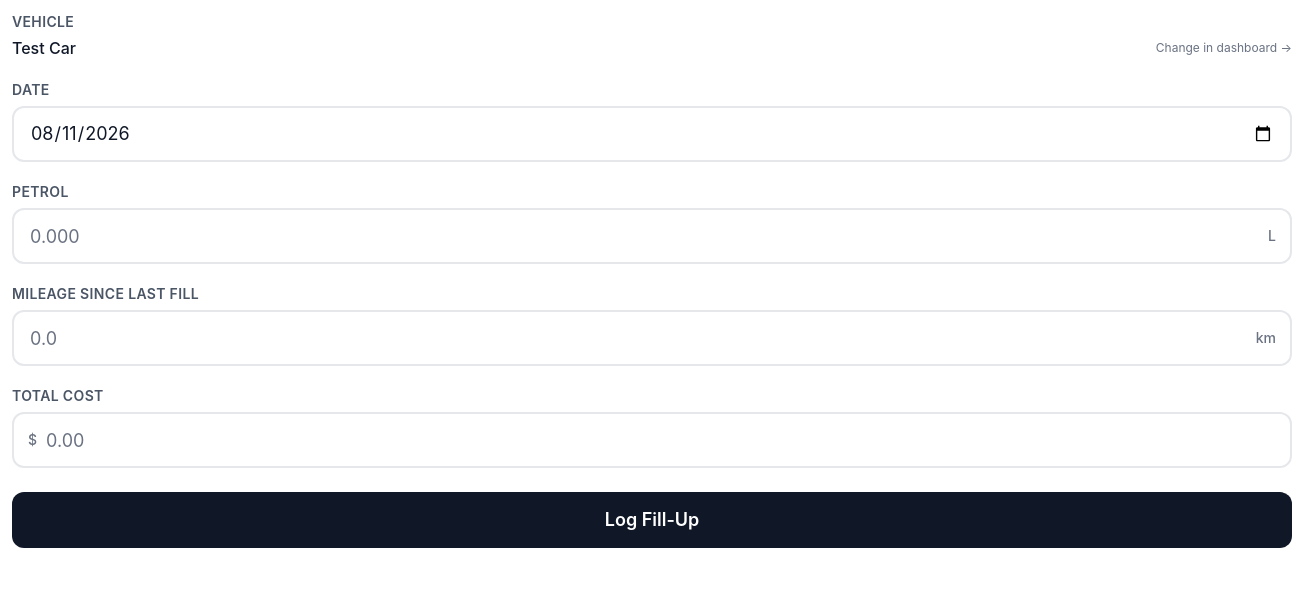
Test: LogForm › renders server-side validation error
Type "40" into the number field labelled "Petrol" at (652,236), box [12,208,1292,264]
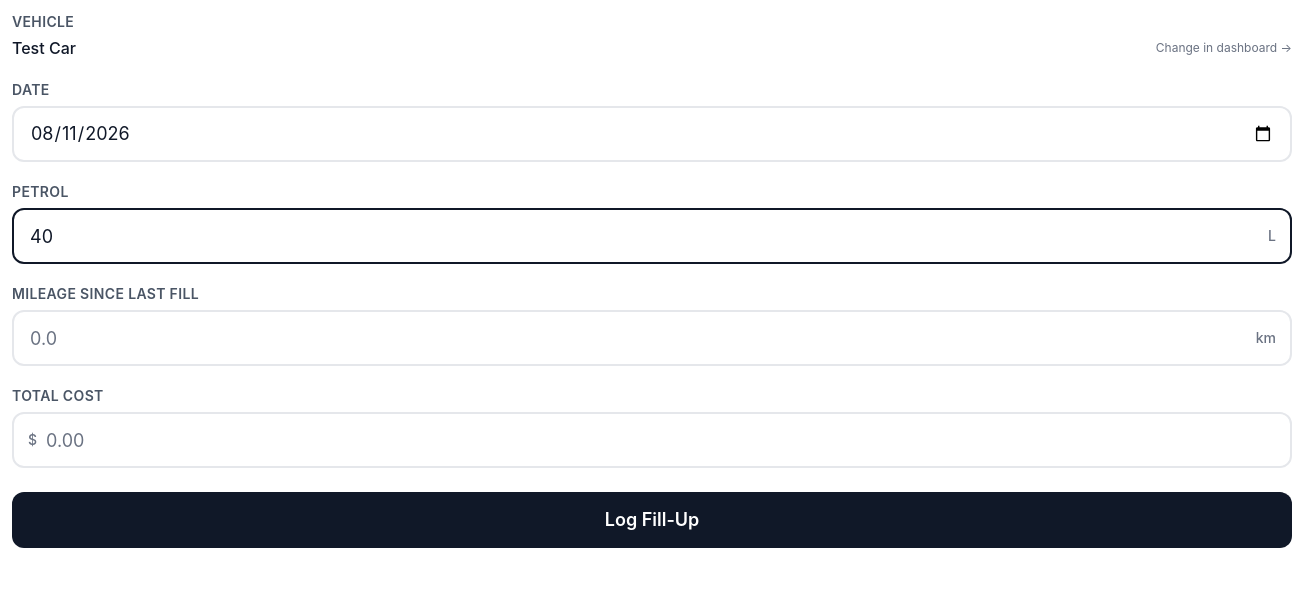
Type "500" into the number field labelled "Mileage since last fill" at (652,338), box [12,310,1292,366]
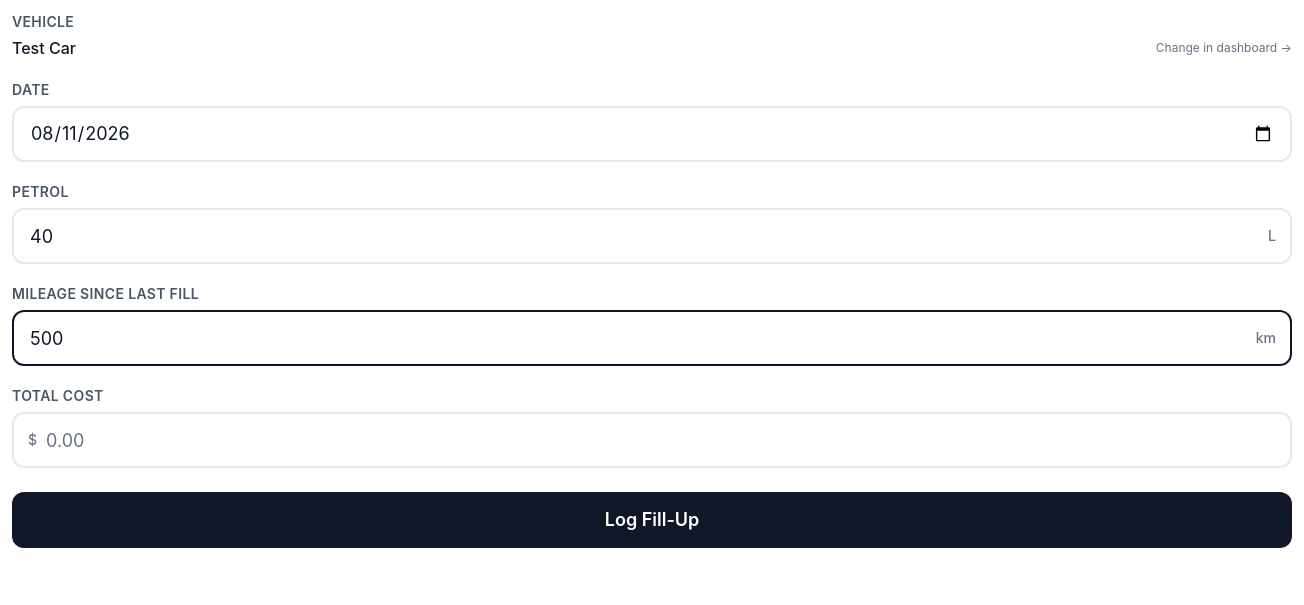
Type "80" into the number field labelled "Total cost" at (652,440), box [12,412,1292,468]
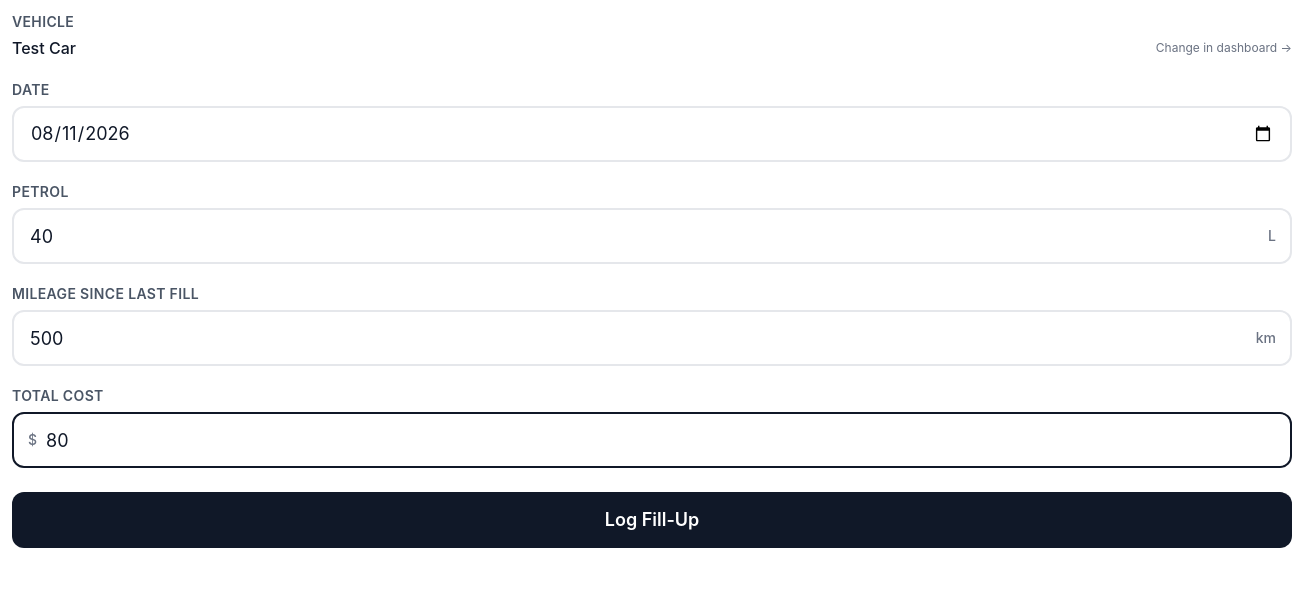
Click the button "Log Fill-Up" at (652,520), box [12,492,1292,548]
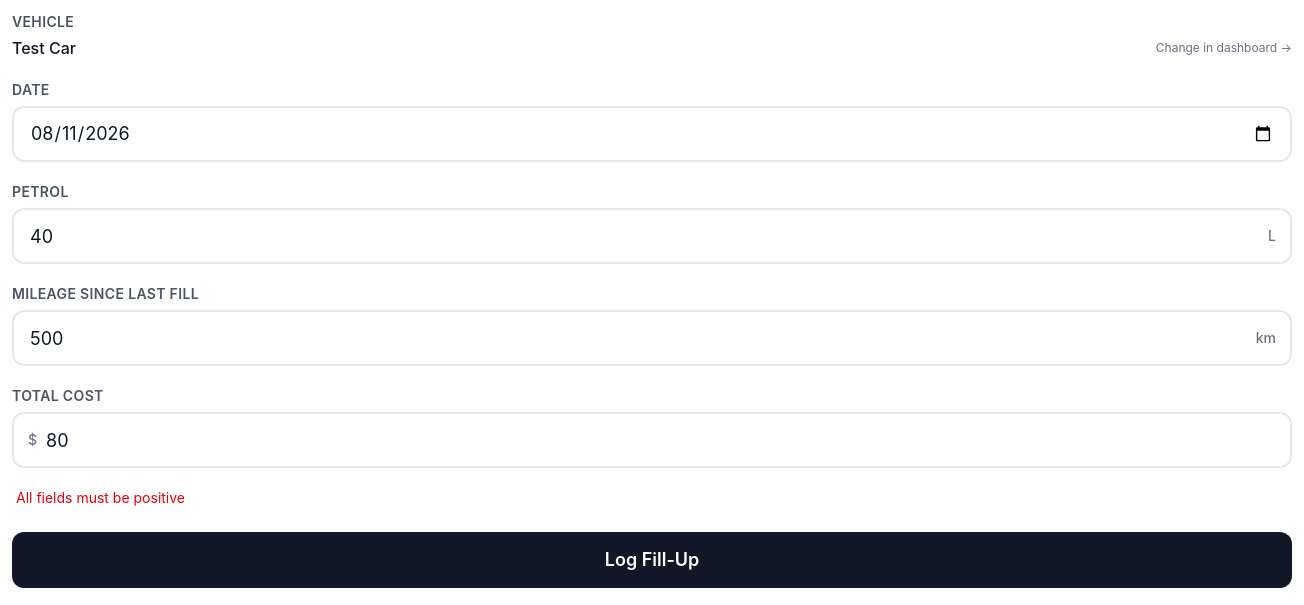
Now the text "All fields must be positive" is shown, box [16,489,185,506]
